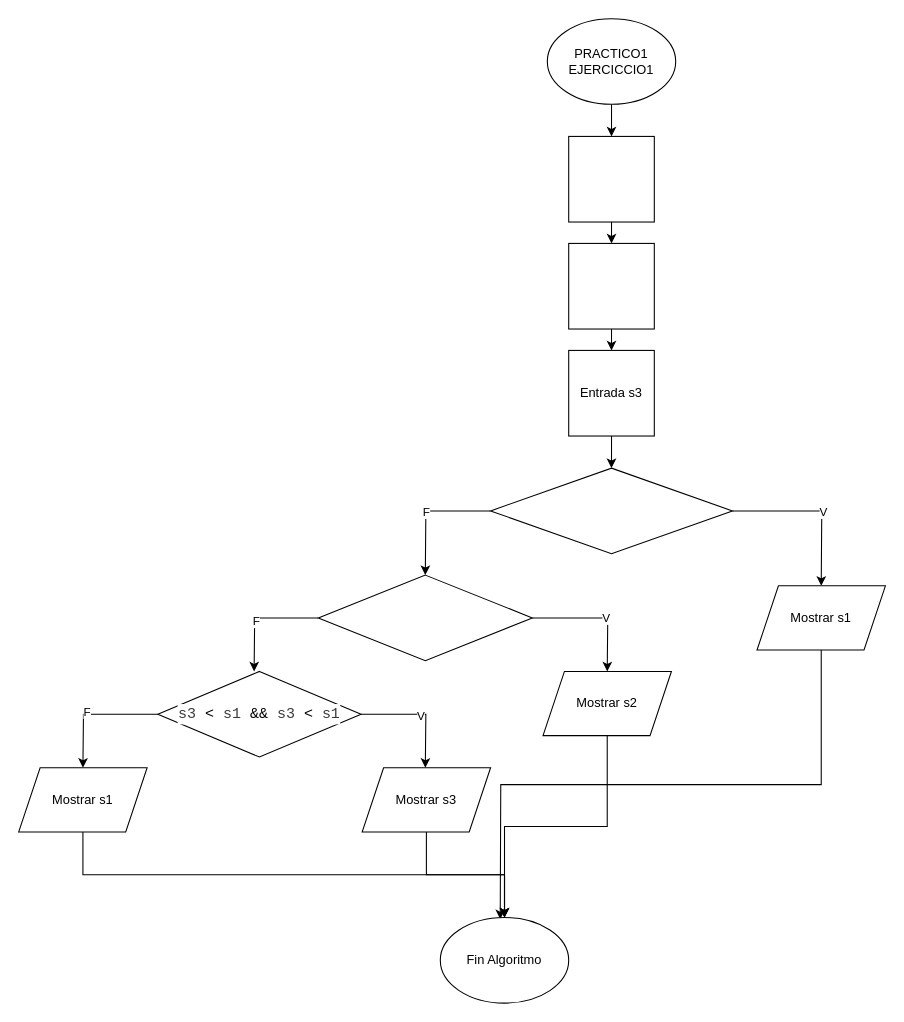
Some shapes in this 904 by 1022 pixel diagram are drawn without their labels. The shapes that lost their labels are listed below. From the top down, each one's centre as x and y in pixels, then its label:
the point at 611,178: Entrada s1
the point at 611,285: Entrada s2
the point at 611,510: s1 < s2 && s1 < s3
the point at 424,617: s2 < s1 && s2 < s3
